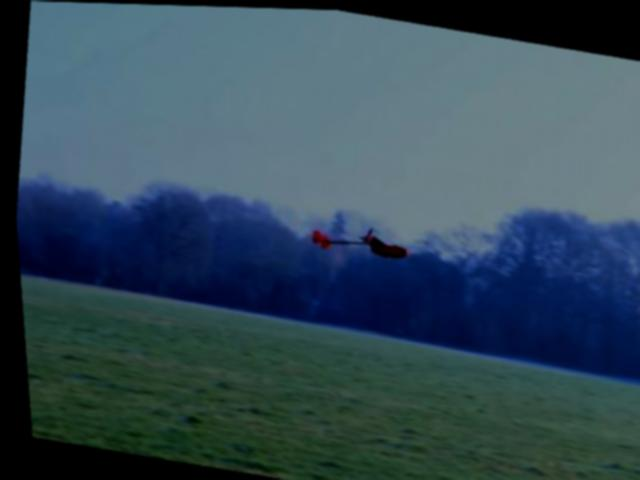uav: (300, 213, 410, 265)
